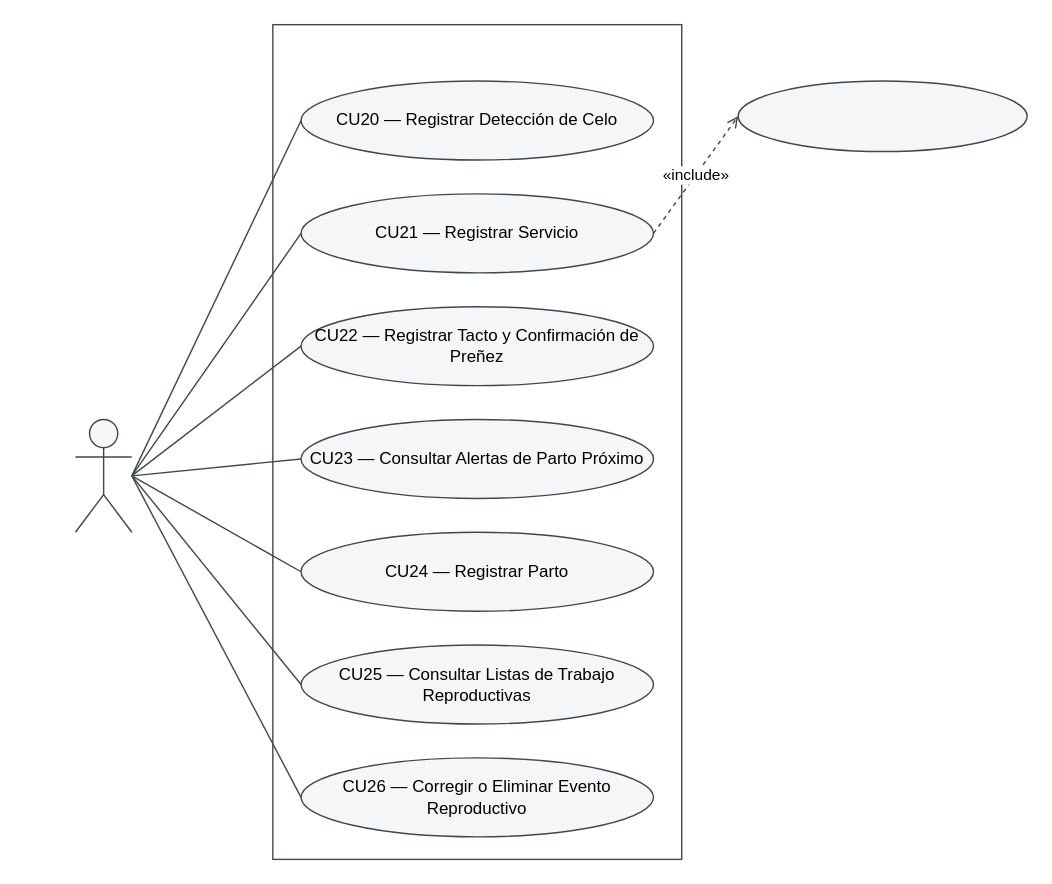
The diagram is 1052 pixels wide and 884 high, and some of its shapes have lost their labels. Here are the shapes that lost their labels. From the top down, the box of each, then its label:
(737, 80, 1027, 152): Descontar Semen de Stock
(271, 23, 682, 859): Sistema de Gestión de Tambo
(74, 418, 132, 532): Encargada del sector
